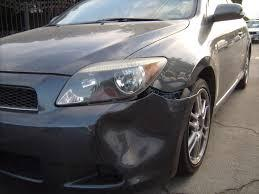front-bumper-dent: (56, 82, 203, 193)
